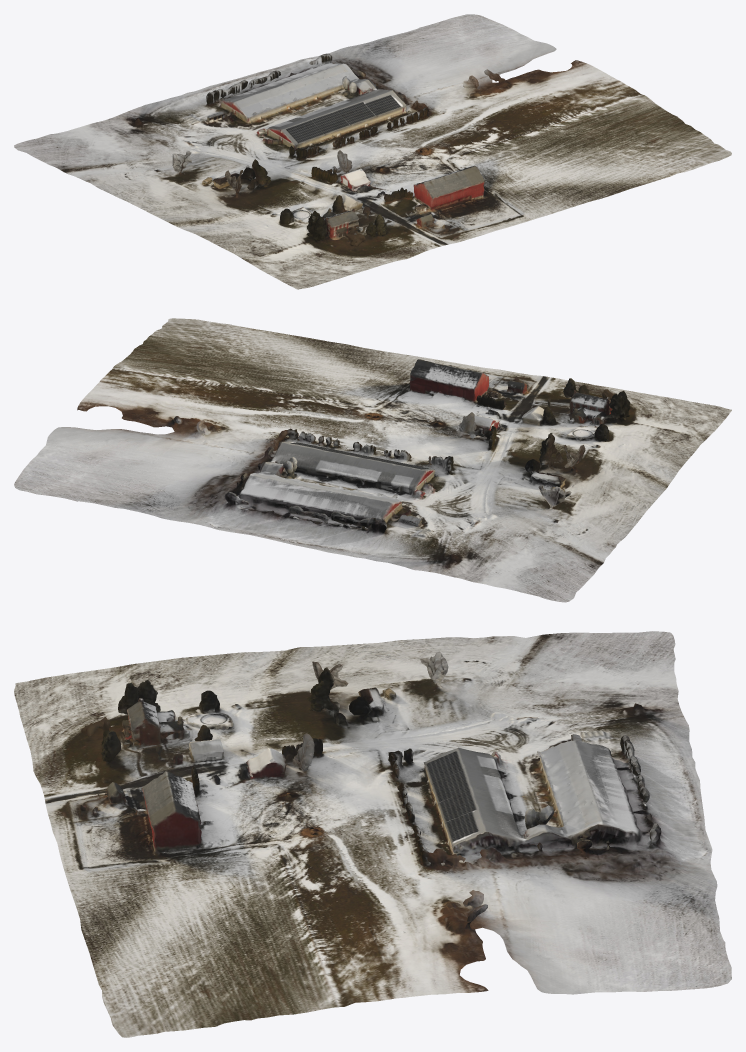
Rendered from farm.glb.
3 views of the same model, one above another, from view 1: azimuth 30°, elevation 25°; view 2: azimuth 150°, elevation 25°; view 3: azimuth 270°, elevation 25° (orthographic). The views are drawn at different scales.
Parts seen in each view (by area): view 1: mesh_out_node; view 2: mesh_out_node; view 3: mesh_out_node.
Part boxes in pixels (x1,y1,x2,y2): mesh_out_node: (14, 14, 731, 289); mesh_out_node: (14, 318, 731, 602); mesh_out_node: (14, 631, 731, 1037).
Size of the model in its own units: 291 by 23.81 by 223.
Materials: 1 (1 with a texture image).
